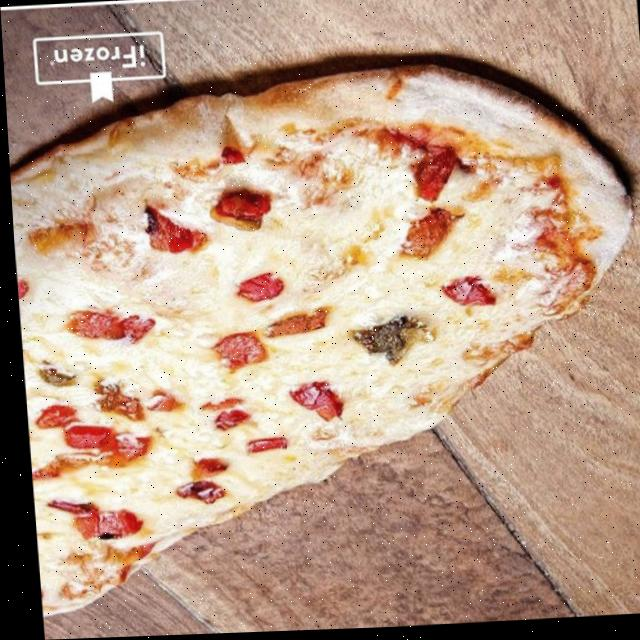pizza: (3, 53, 640, 617)
tomatoes: (57, 304, 152, 349), (137, 201, 202, 256), (395, 211, 454, 261), (206, 189, 270, 234), (278, 383, 343, 425), (409, 151, 459, 205), (66, 510, 141, 545), (203, 333, 265, 375), (71, 436, 145, 471), (50, 422, 114, 453), (256, 311, 323, 340), (436, 281, 490, 311), (228, 275, 280, 305), (167, 480, 221, 505), (181, 452, 223, 484), (28, 403, 72, 431), (40, 495, 94, 516), (202, 408, 244, 434), (140, 388, 177, 416), (235, 437, 284, 457), (192, 399, 235, 414), (13, 276, 24, 302)
